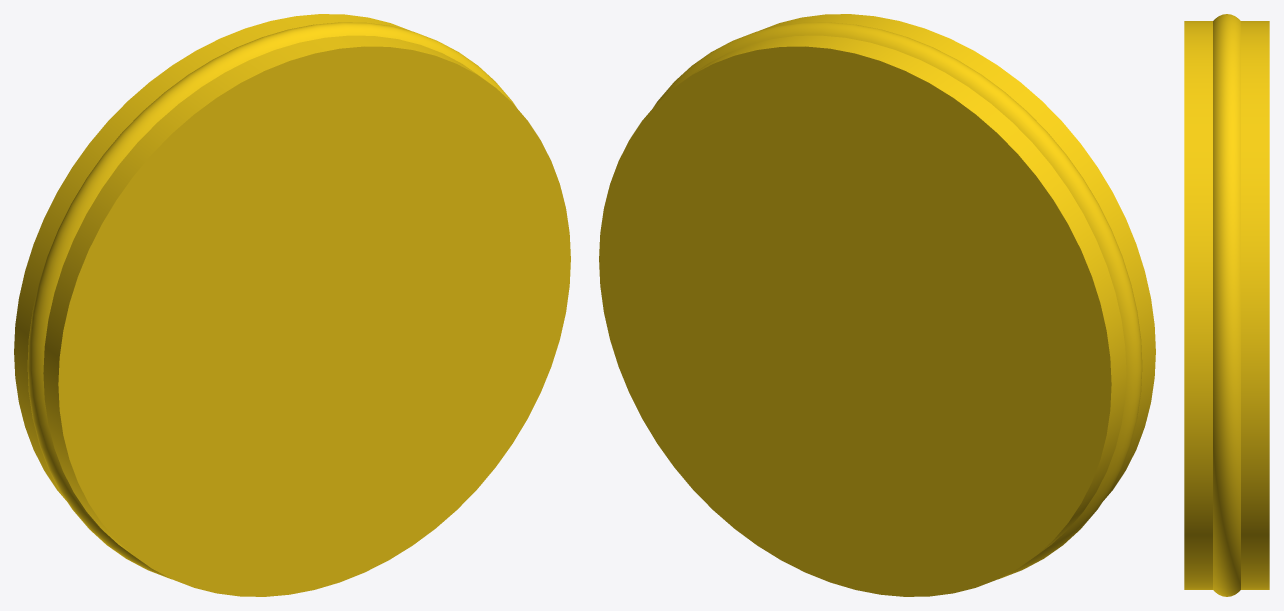
The model's file is connect4_yellow.glb.
The picture shows the model from 3 angles, left to right: view 1: azimuth 30°, elevation 25°; view 2: azimuth 150°, elevation 25°; view 3: azimuth 270°, elevation 25°; orthographic projection. The views are drawn at different scales.
Visible parts, largest first — view 1: CoinDisc, CoinRim; view 2: CoinDisc, CoinRim; view 3: CoinDisc, CoinRim.
Boxes of the visible parts, x1,y1,x2,y2 form: CoinDisc: [14, 14, 570, 596]; CoinRim: [27, 22, 516, 579]; CoinDisc: [599, 14, 1155, 596]; CoinRim: [653, 22, 1142, 579]; CoinDisc: [1184, 21, 1269, 589]; CoinRim: [1213, 14, 1240, 596].
Size of the model in its own units: 0.82 by 0.82 by 0.12.
